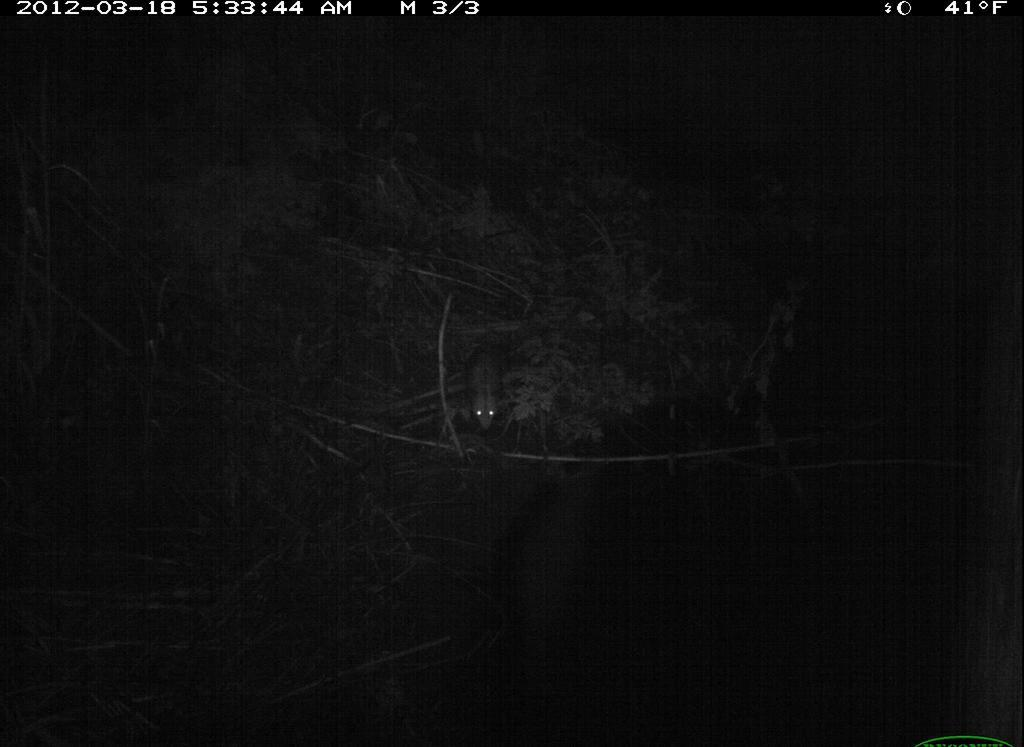opossum: (451, 333, 528, 443)
